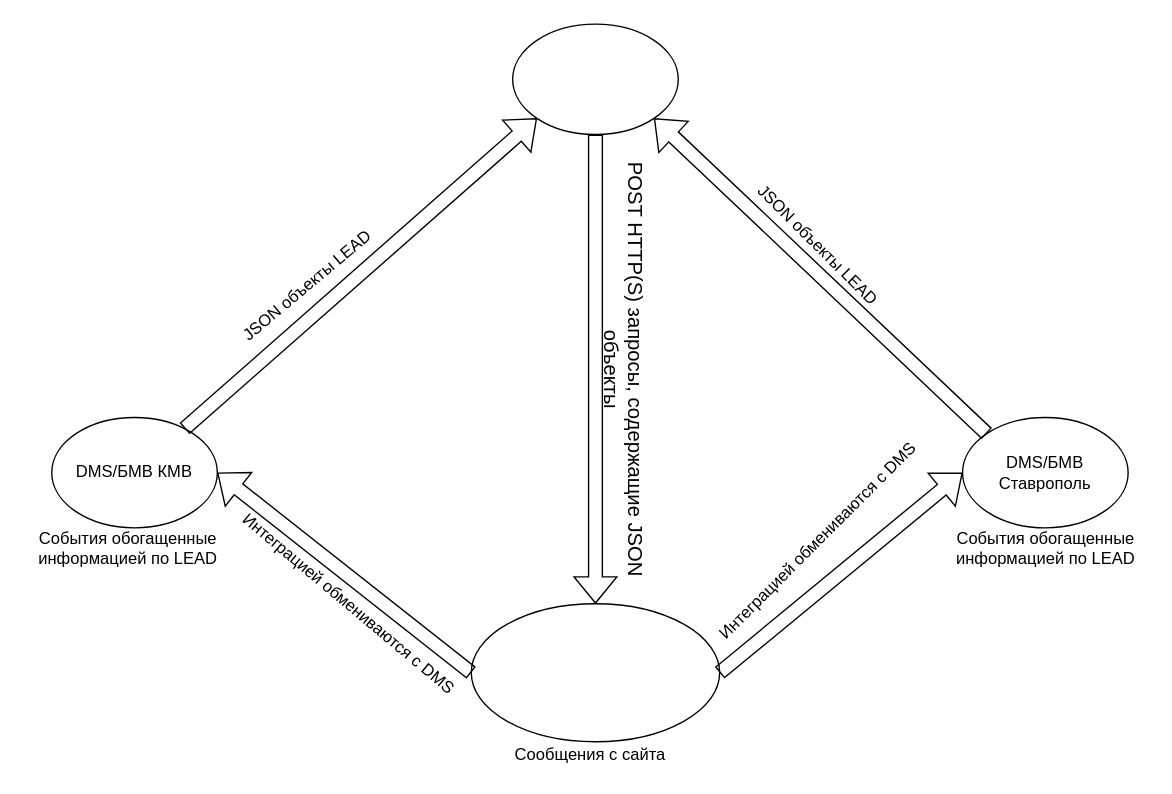
Some shapes in this 1172 by 794 pixel diagram are drawn without their labels. Each missing label, with the box of its shape:
lmp.bmw.ru: (511, 23, 678, 135)
Террасофт/ CDMS call center: (470, 602, 720, 742)
